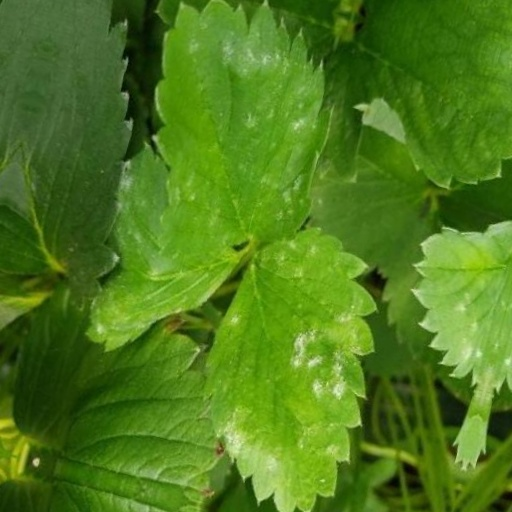Powdery Mildew Leaf: (213, 231, 405, 509), (110, 4, 278, 301), (261, 123, 407, 340), (0, 184, 103, 374)
